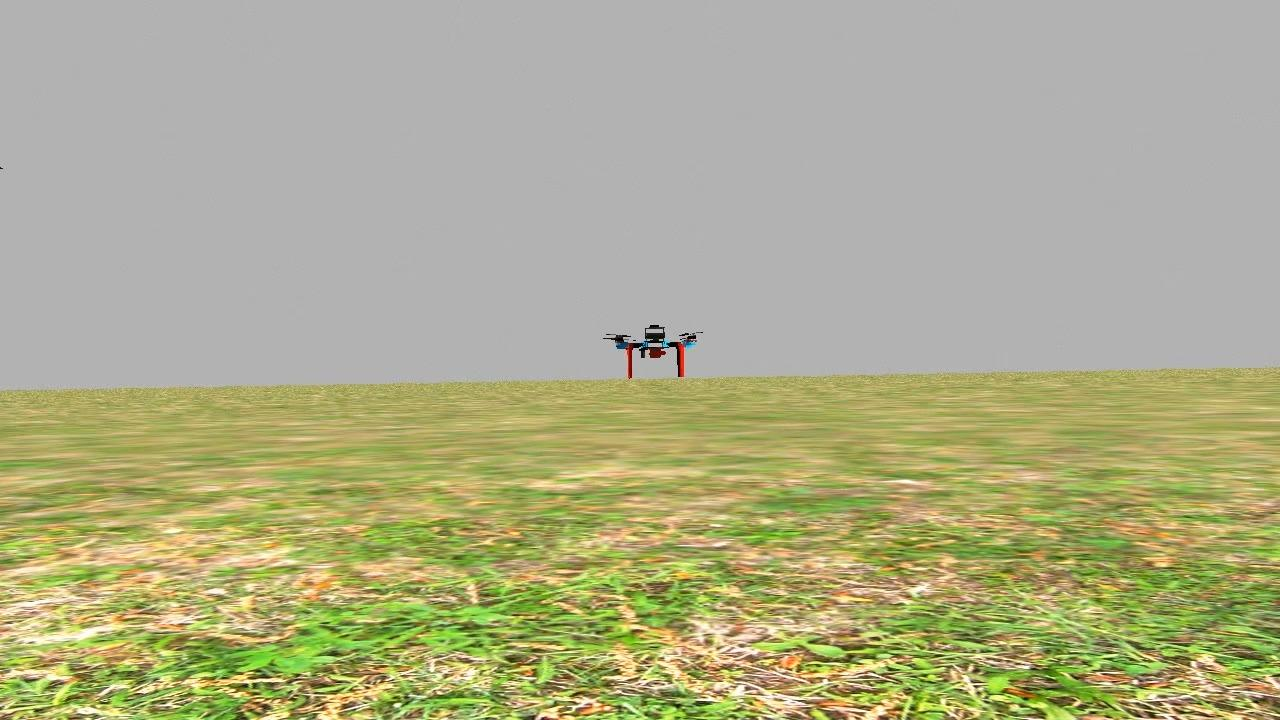UAV: (600, 320, 706, 386)
